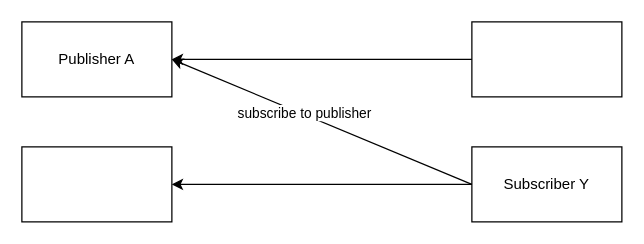
This 644x244 diagram has some shape labels left out. Here are the shapes that lost their labels. From the top down, the centre of each, then its label:
At pixel 546 59: "Subscriber X".
At pixel 96 184: "Publisher B".
